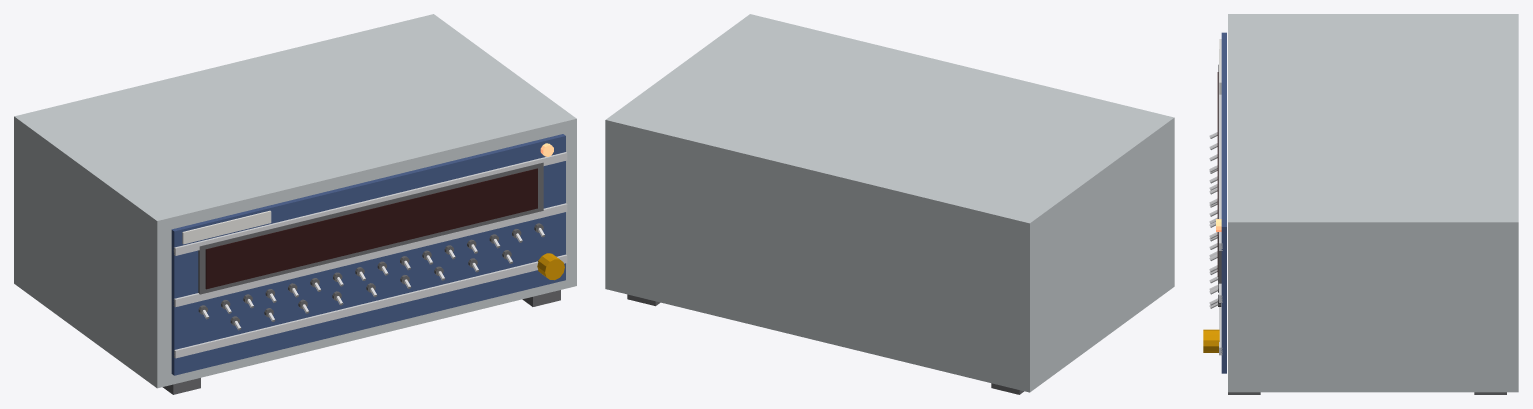
Rendered from altair8800.glb.
3 views of the same model, side by side, from view 1: azimuth 30°, elevation 25°; view 2: azimuth 150°, elevation 25°; view 3: azimuth 270°, elevation 25° (orthographic).
Visible parts, largest first — view 1: case, panel, screen, screen_bezel, strip_2, strip_1, strip_0, plate, knob_reset; view 2: case; view 3: case, panel, strip_0, knob_reset, screen, screen_bezel.
Part boxes in pixels (<box>): case: <box>14,14,576,388</box>; panel: <box>171,134,565,375</box>; screen: <box>205,168,537,289</box>; screen_bezel: <box>198,162,543,294</box>; strip_2: <box>174,254,567,358</box>; strip_1: <box>174,203,567,307</box>; strip_0: <box>173,152,567,255</box>; plate: <box>182,210,271,244</box>; knob_reset: <box>537,253,564,280</box>; case: <box>605,14,1174,392</box>; case: <box>1228,14,1518,392</box>; panel: <box>1221,32,1226,373</box>; strip_0: <box>1219,49,1222,250</box>; knob_reset: <box>1203,329,1219,352</box>; screen: <box>1217,72,1218,276</box>; screen_bezel: <box>1218,64,1221,283</box>.
Bounding box in the file's own units: 2.1 × 0.85 × 1.34.
